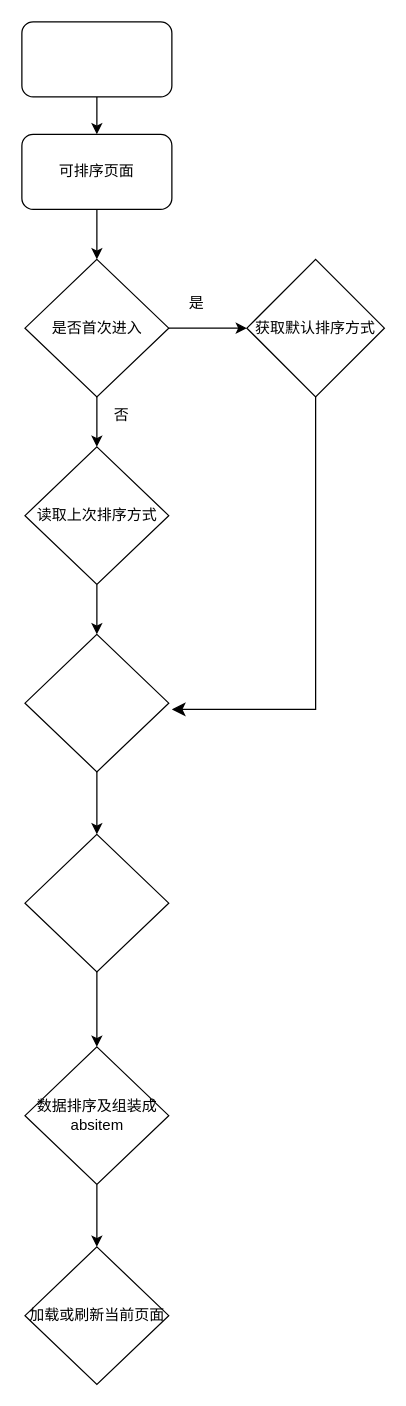
This 406x1406 diagram has some shape labels left out. The centre of each missing label's shape, as x and y in pixels:
"加载排序UI" goes at pixel 96 702.
"空间清理首页" goes at pixel 96 59.
"读取扫描器对应数据" goes at pixel 96 902.
